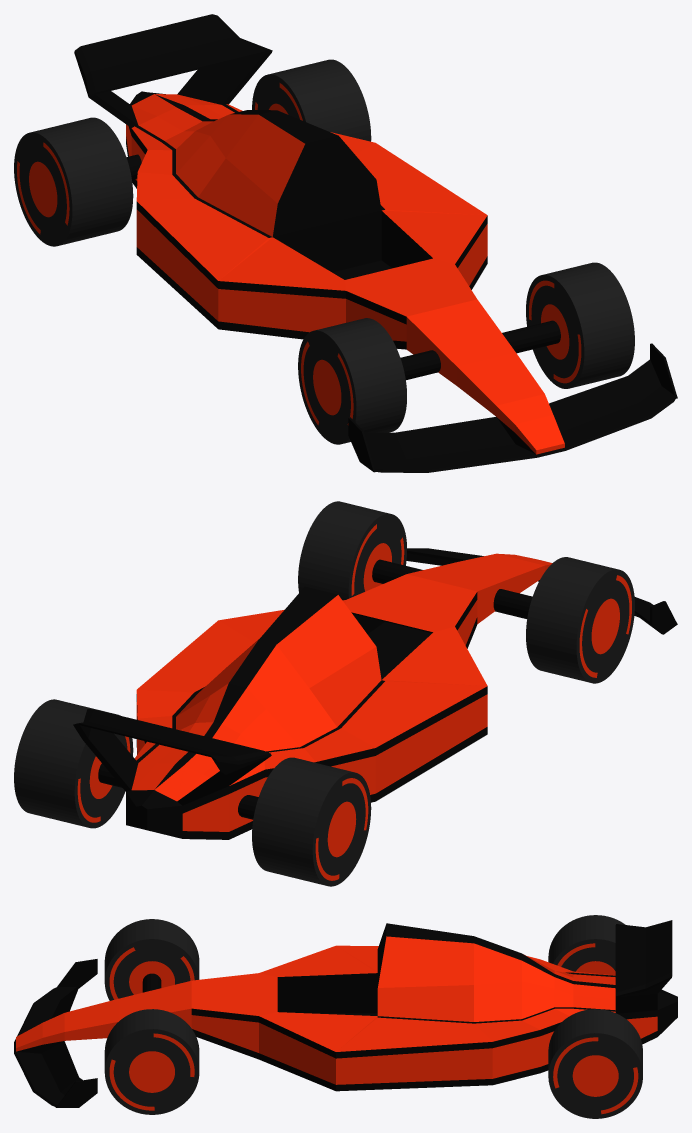
Rendered from f1Car.fbx.
3 renders of one model, top to bottom at view 1: azimuth 30°, elevation 25°; view 2: azimuth 150°, elevation 25°; view 3: azimuth 270°, elevation 25°, orthographic. The views are drawn at different scales.
Visible parts, largest first — view 1: Body, frontW, BR, backW, FR, FL, BL; view 2: Body, BR, FR, BL, FL, backW, frontW; view 3: Body, BL, FL, FR, frontW, backW, BR.
Part boxes in pixels (x1,y1,x2,y2): Body: (126, 91, 564, 454); frontW: (348, 343, 677, 472); BR: (14, 117, 141, 246); backW: (74, 14, 272, 127); FR: (298, 318, 440, 444); FL: (502, 262, 634, 388); BL: (252, 59, 371, 141); Body: (126, 553, 552, 839); BR: (238, 757, 371, 886); FR: (493, 557, 634, 683); BL: (14, 699, 133, 828); FL: (298, 501, 422, 600); backW: (73, 709, 271, 805); frontW: (406, 548, 677, 634); Body: (16, 923, 677, 1091); BL: (548, 1009, 642, 1118); FL: (104, 1009, 199, 1114); FR: (104, 919, 199, 1000); frontW: (14, 959, 97, 1107); backW: (615, 920, 672, 1013); BR: (548, 915, 625, 975).
Bounding box in the file's own units: 600 × 303 × 1402.
